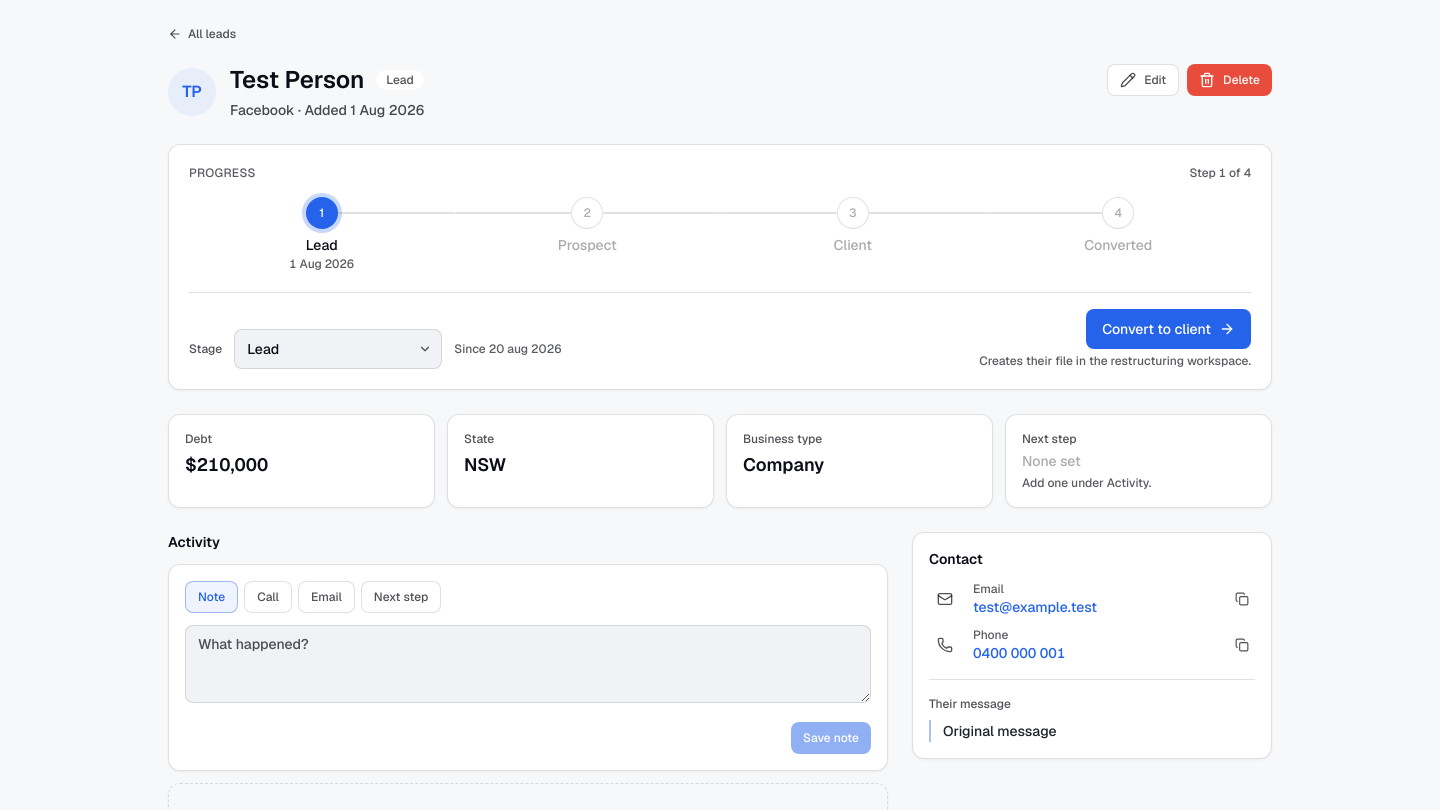
Edit lead › opens an exact debt ticked, with the figure filled in
This screenshot has width=1440, height=810.
Click the button "Edit".
click(1143, 80)  # box [1107,64,1179,96]
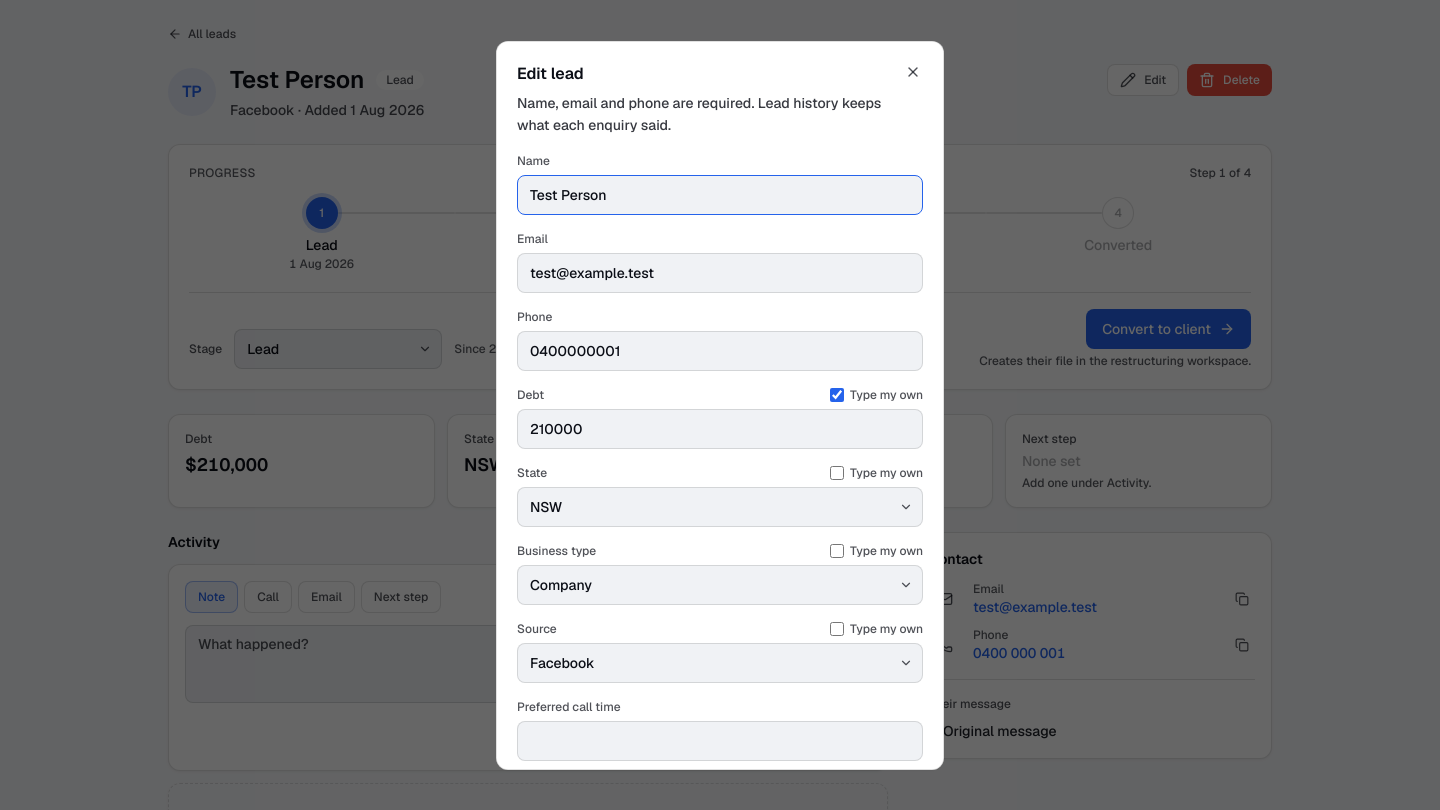
Check: the checkbox named "Type my own debt" is checked, box [830,388,844,402]
Check: the field labelled "Debt" holds "210000", box [517,409,923,449]
